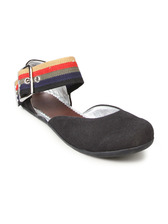shoes: (15, 55, 158, 161)
